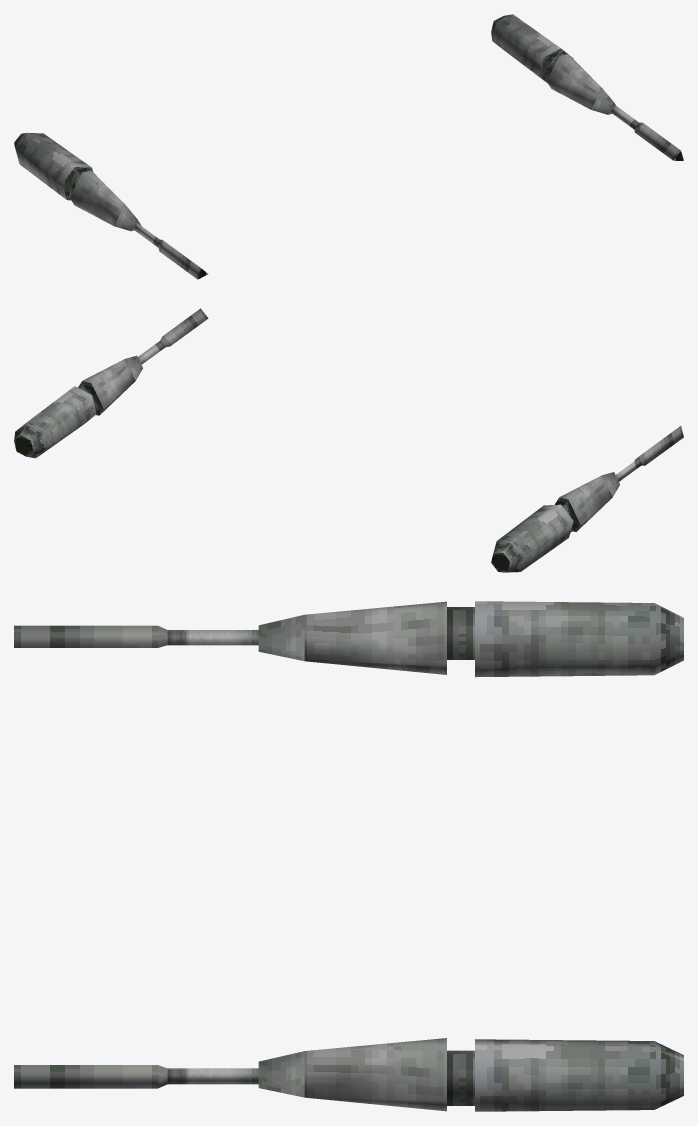
The model's file is awing_weapon_s05_l2.fbx.
3 renders of one model, top to bottom at view 1: azimuth 30°, elevation 25°; view 2: azimuth 150°, elevation 25°; view 3: azimuth 270°, elevation 25°, orthographic. The views are drawn at different scales.
Parts seen in each view (by area): view 1: mesh_node; view 2: mesh_node; view 3: mesh_node.
Part boxes in pixels (x1,y1,x2,y2): mesh_node: (14,14,683,279); mesh_node: (14,308,683,572); mesh_node: (14,601,683,1111).
Bounding box in the file's own units: 9.39 × 0.632 × 5.68.
1 material, 1 textured.
